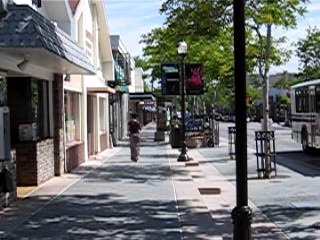person: (128, 113, 143, 164), (127, 113, 142, 164), (129, 113, 144, 164), (128, 112, 143, 163), (128, 114, 143, 165)
target_negative: (32, 76, 146, 189), (155, 191, 224, 233), (272, 103, 288, 169), (3, 189, 94, 196), (140, 208, 212, 209), (30, 187, 58, 188)
